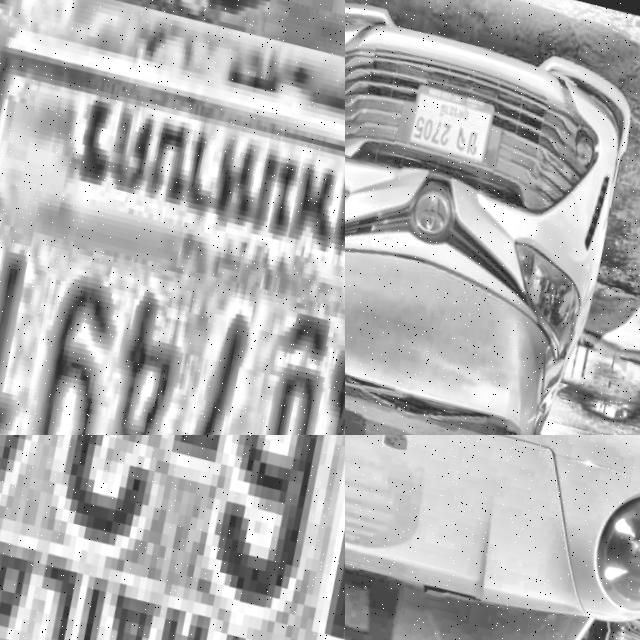license-plate: (0, 0, 345, 435), (0, 435, 345, 640), (395, 70, 502, 175)
